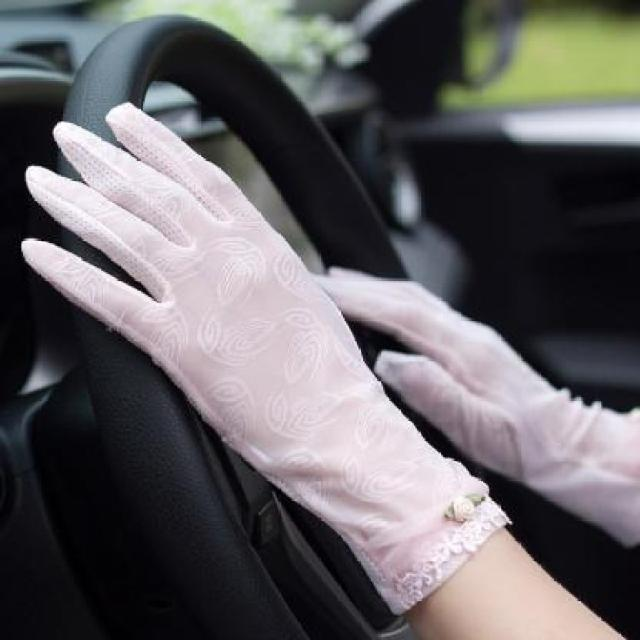hand_glove: (21, 97, 422, 537), (313, 256, 622, 535)
